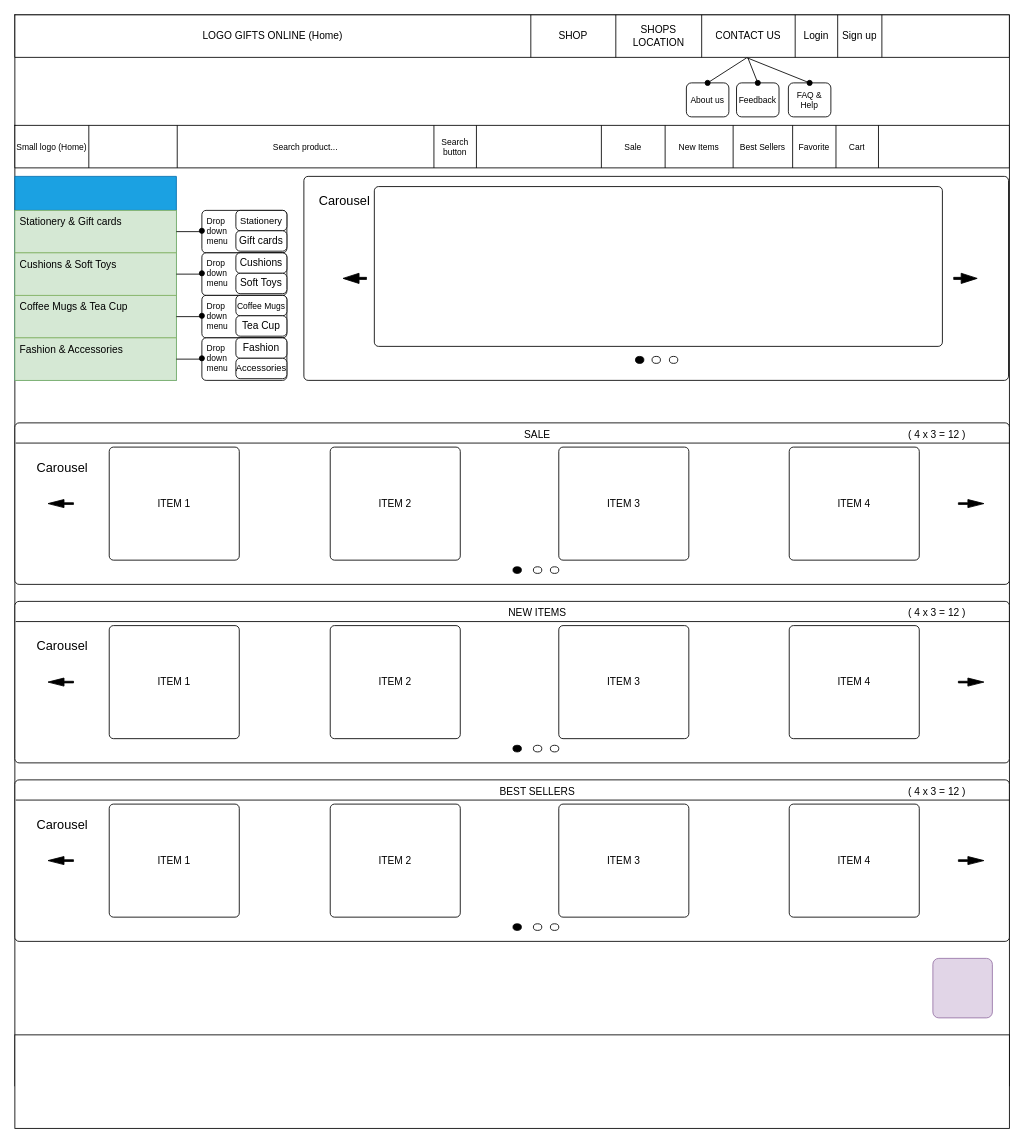
Image size: 1024x1143. Some labels were removed from this diagram. The box of each missing label's shape, as (x1, y1, x2, y2) in pixels:
Button to Top: (932, 958, 992, 1018)
Categories: (14, 176, 176, 380)
FOOTER: (14, 1034, 1009, 1128)
IMAGE SLIDE: (373, 186, 942, 346)
